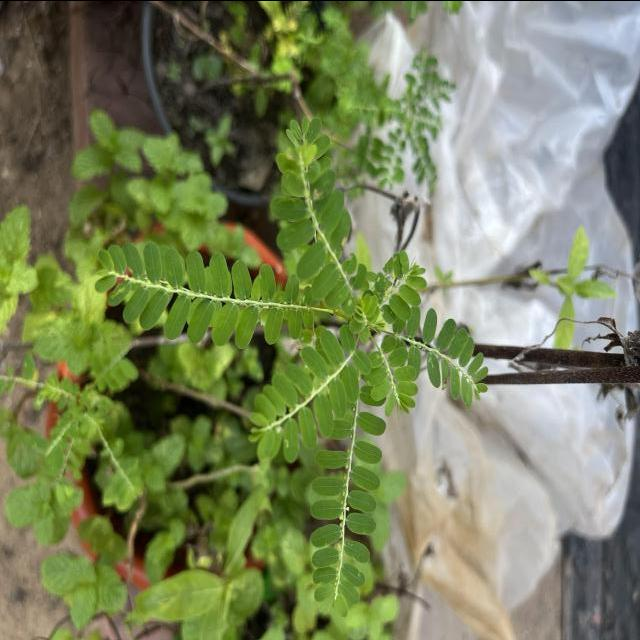Phyllanthus niruri: (92, 239, 314, 351), (310, 382, 389, 618), (248, 323, 372, 464), (268, 137, 364, 315), (392, 302, 492, 410), (366, 332, 421, 415), (371, 247, 428, 327)
